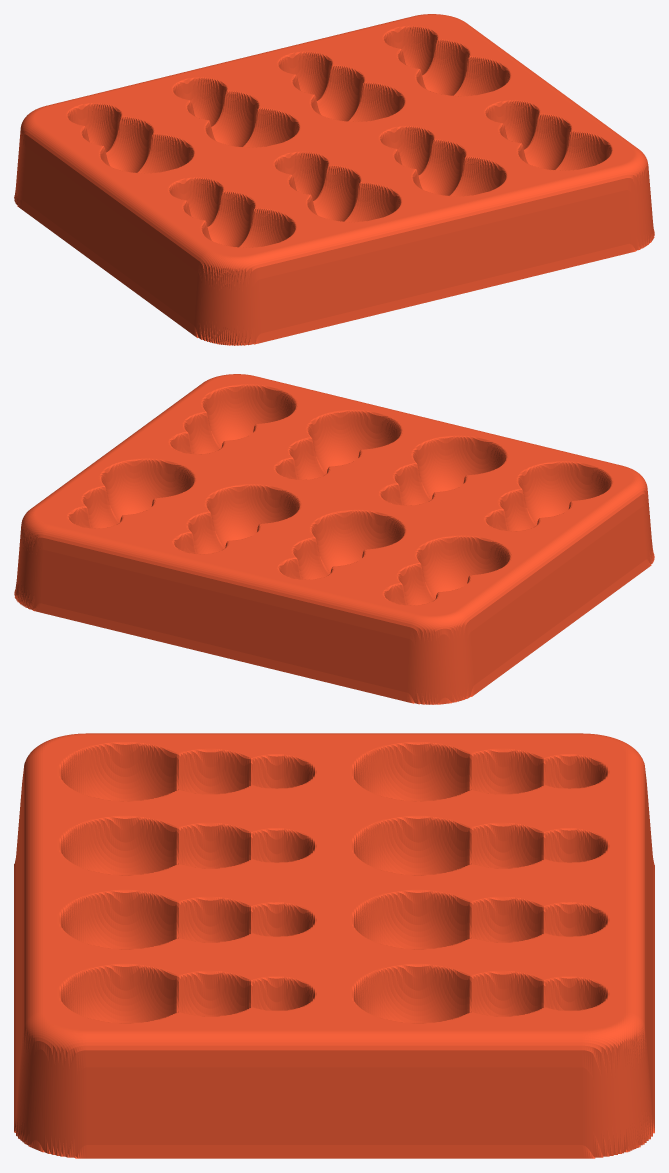
File: mold.glb
The picture shows the model from 3 angles, top to bottom: view 1: azimuth 30°, elevation 25°; view 2: azimuth 150°, elevation 25°; view 3: azimuth 270°, elevation 25°; orthographic projection. The views are drawn at different scales.
Parts seen in each view (by area): view 1: geometry_0; view 2: geometry_0; view 3: geometry_0.
Boxes of the visible parts, x1=… form: geometry_0: x1=14, y1=14, x2=654, y2=345; geometry_0: x1=14, y1=374, x2=654, y2=704; geometry_0: x1=14, y1=733, x2=654, y2=1158.
Size of the model in its own units: 0.0943 by 0.0159 by 0.0799.
